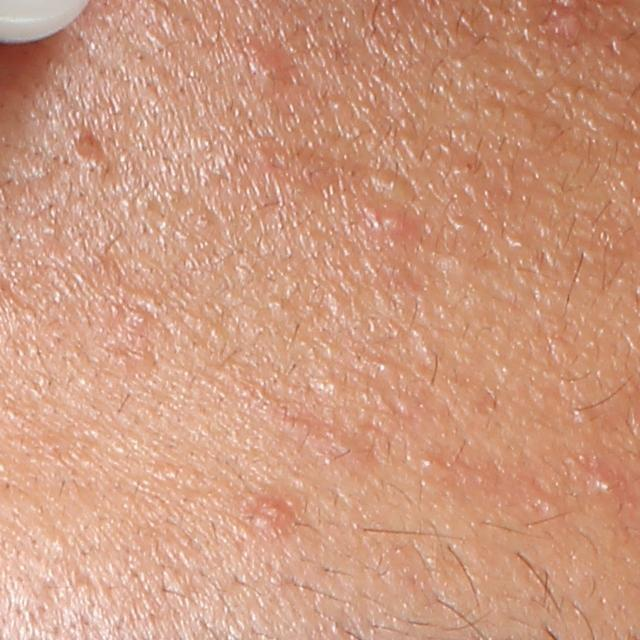comedo: (369, 168, 409, 195), (535, 490, 561, 519), (418, 450, 447, 471), (316, 376, 341, 396)
papule: (254, 49, 289, 83), (378, 207, 416, 238), (251, 500, 286, 530)
